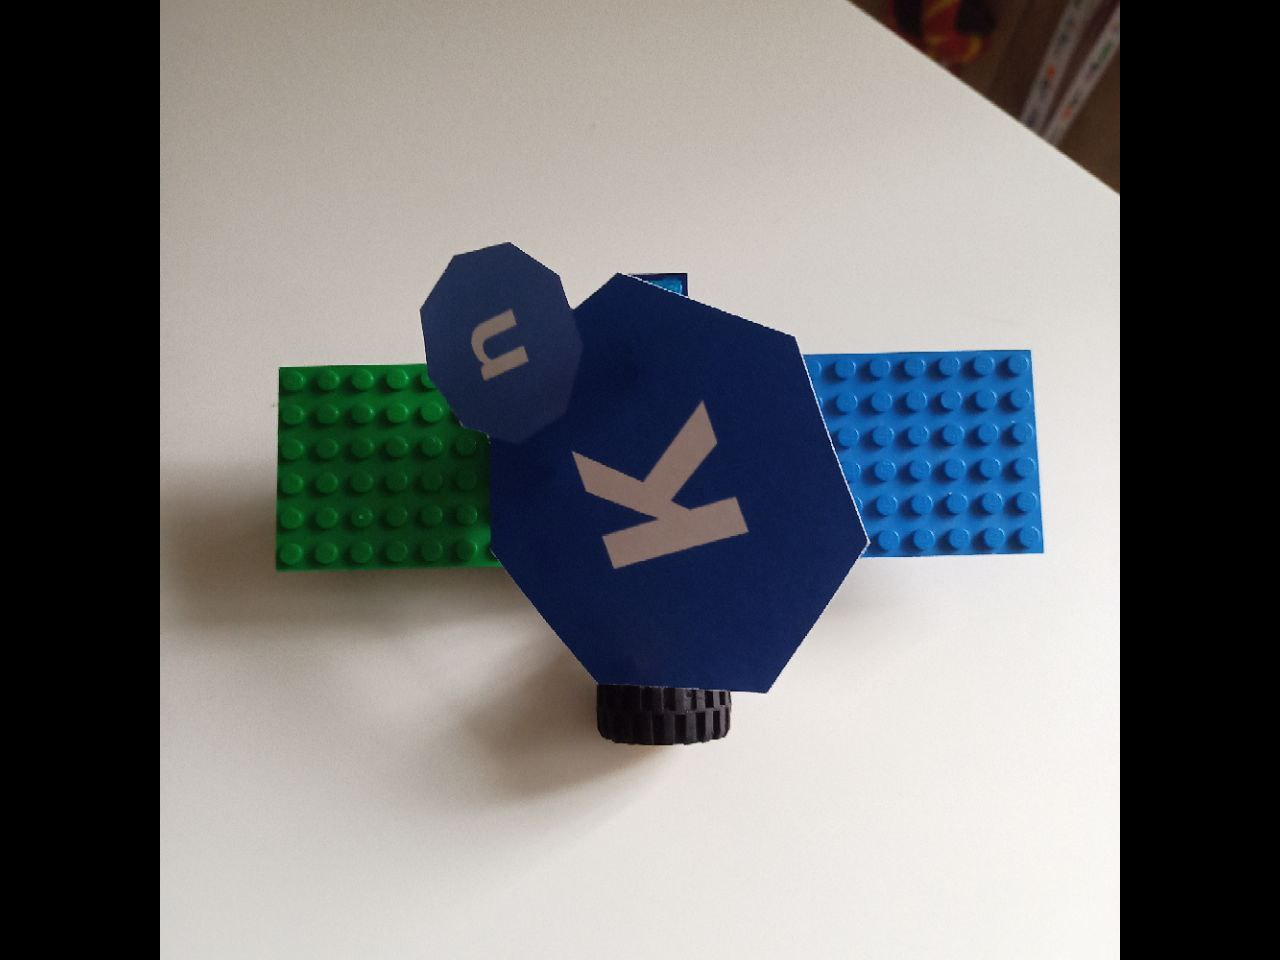knative: (419, 243, 871, 686)
